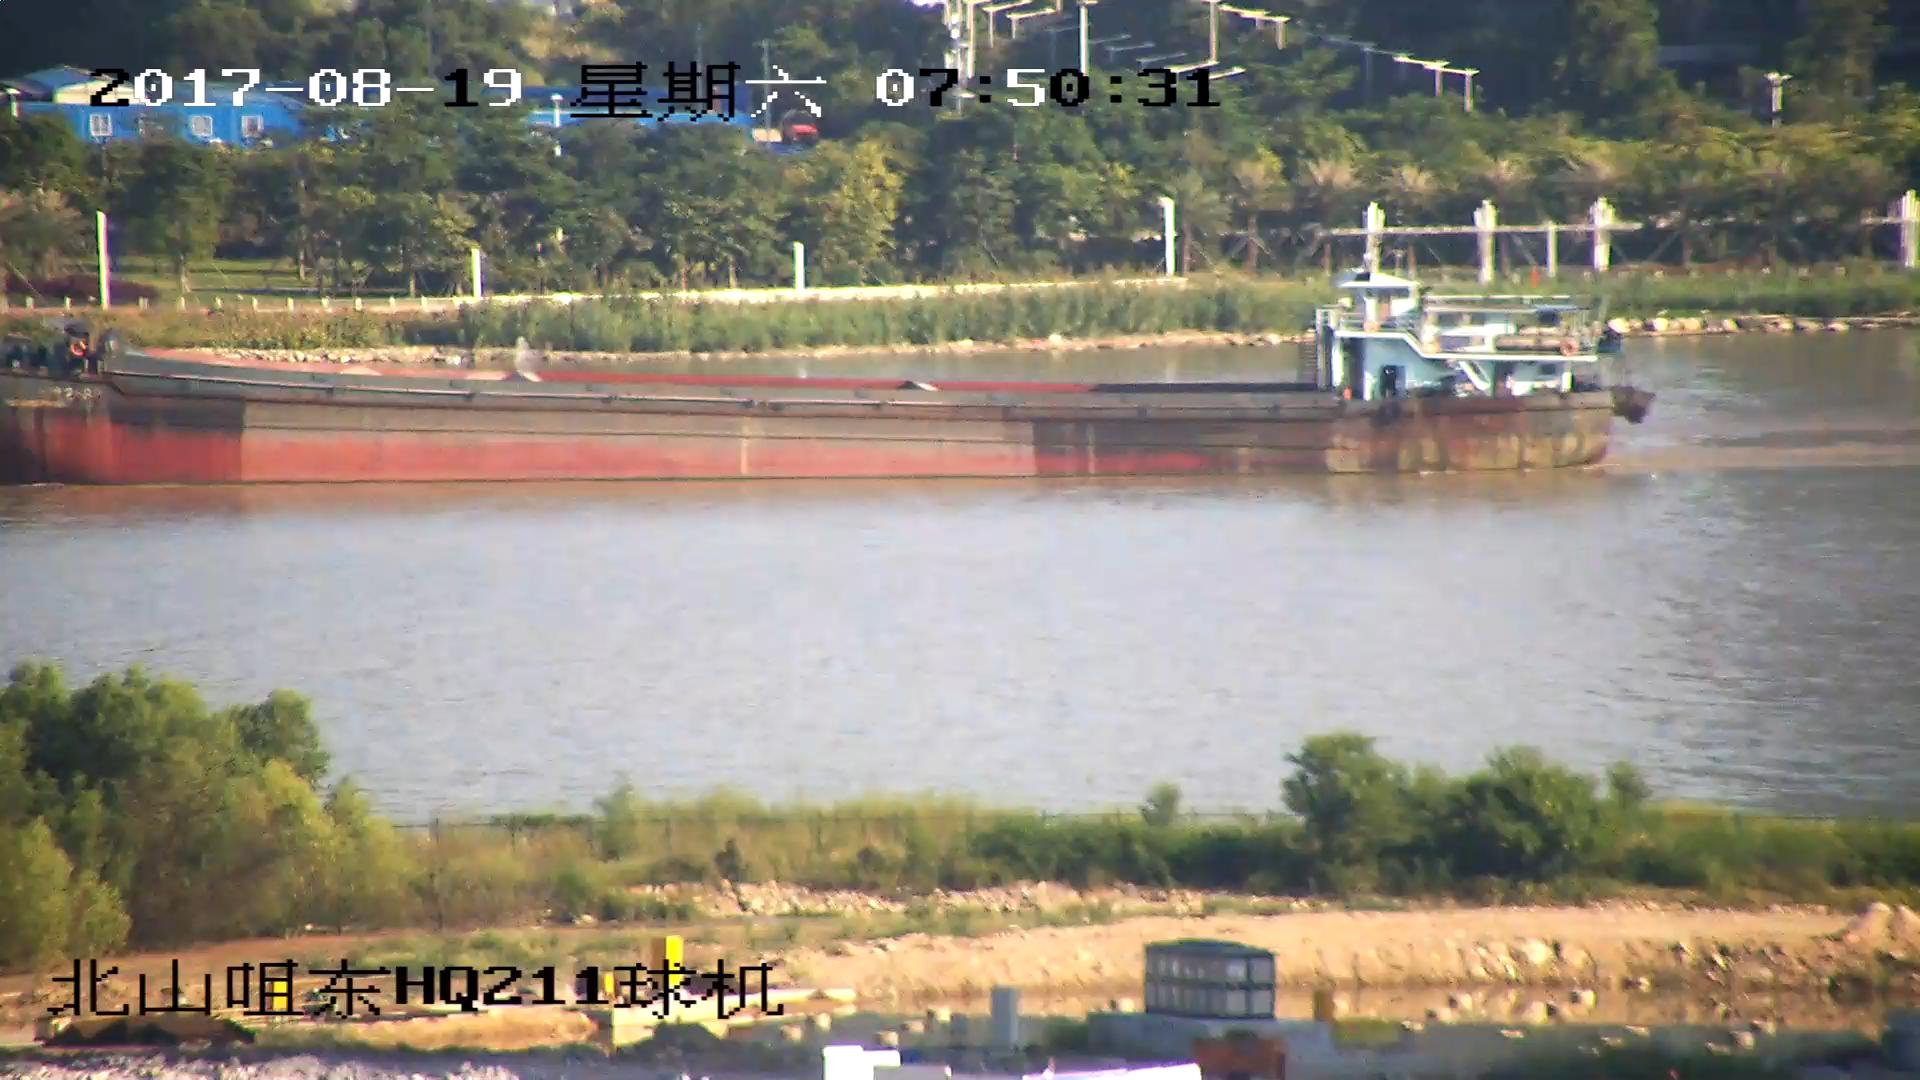bulk cargo carrier: (1, 254, 1658, 484)
